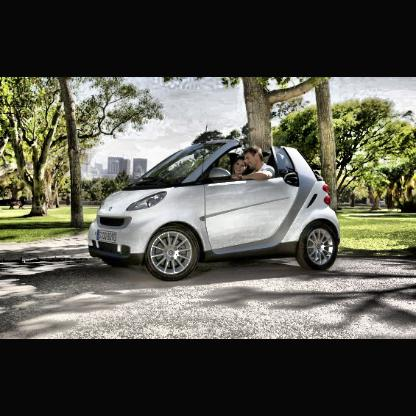smart fortwo Convertible 2012: (90, 141, 343, 281)
